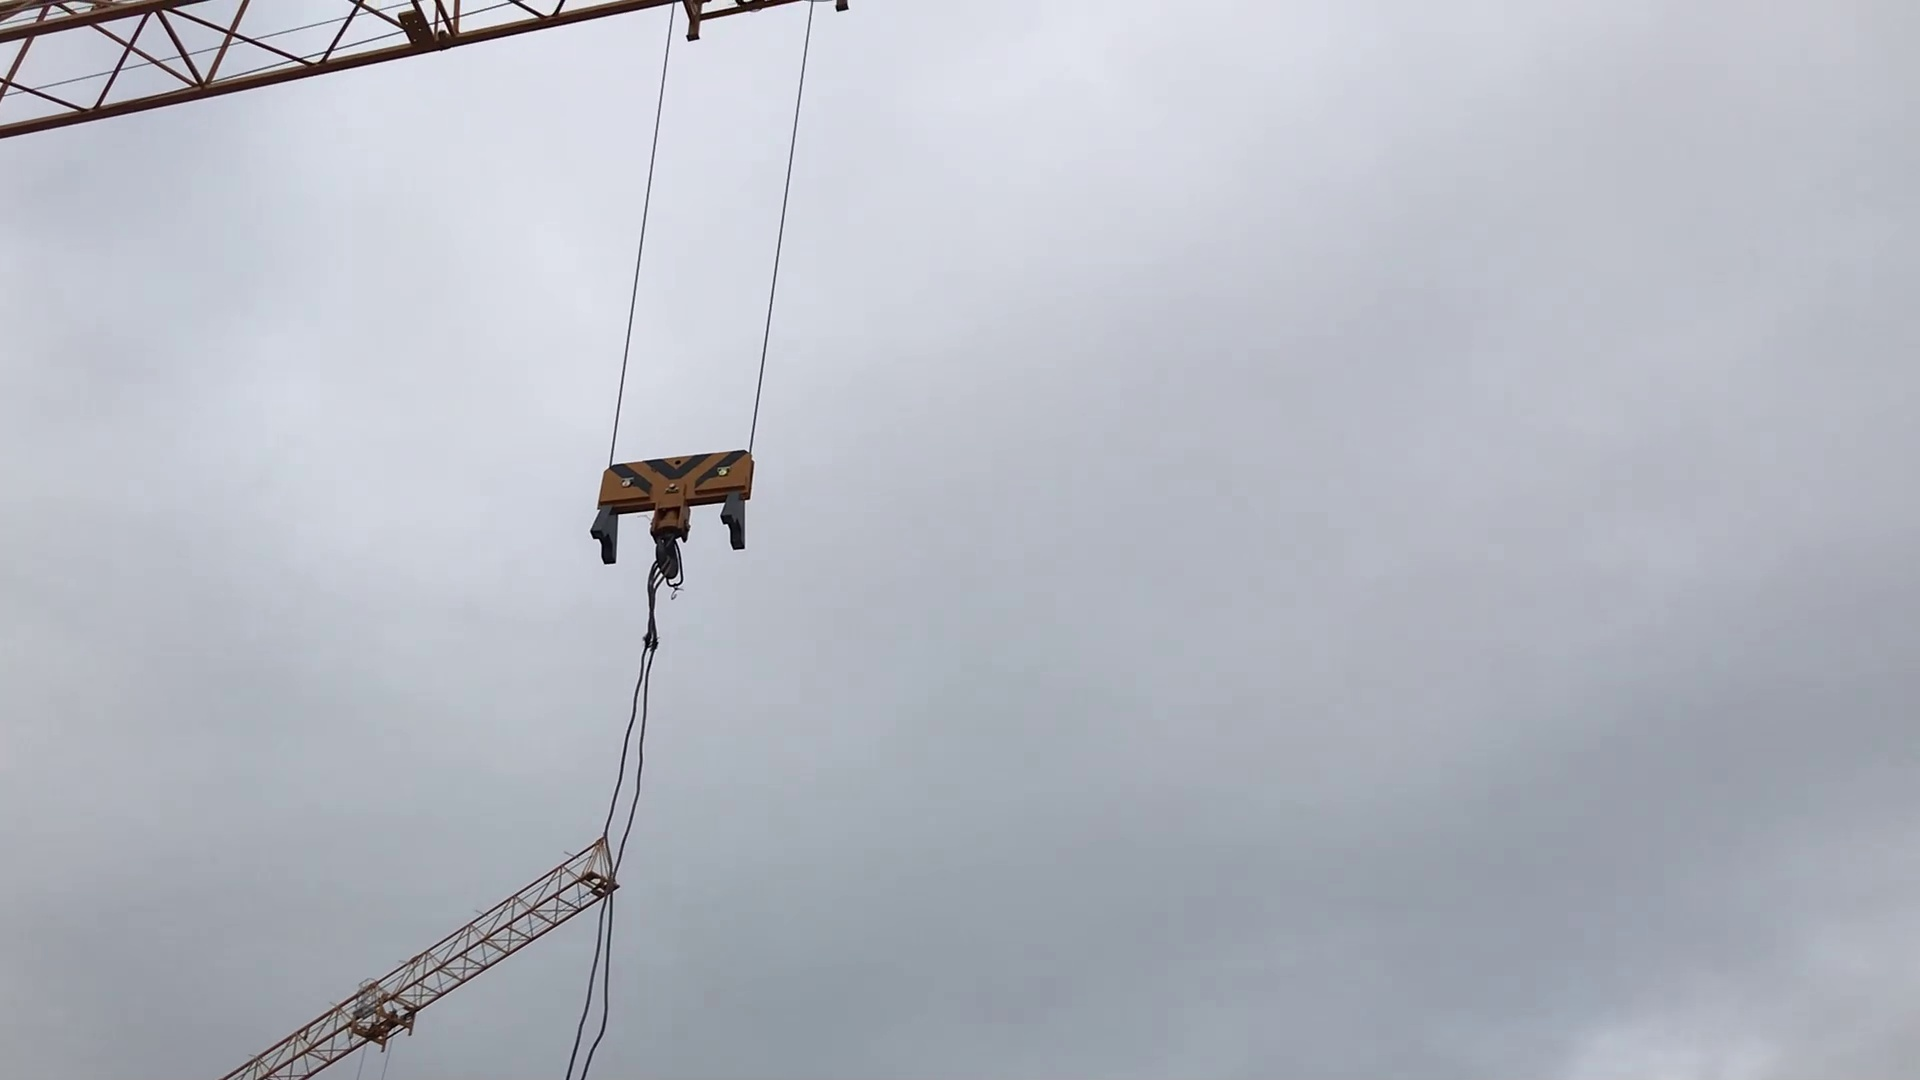hook: (592, 446, 764, 587)
